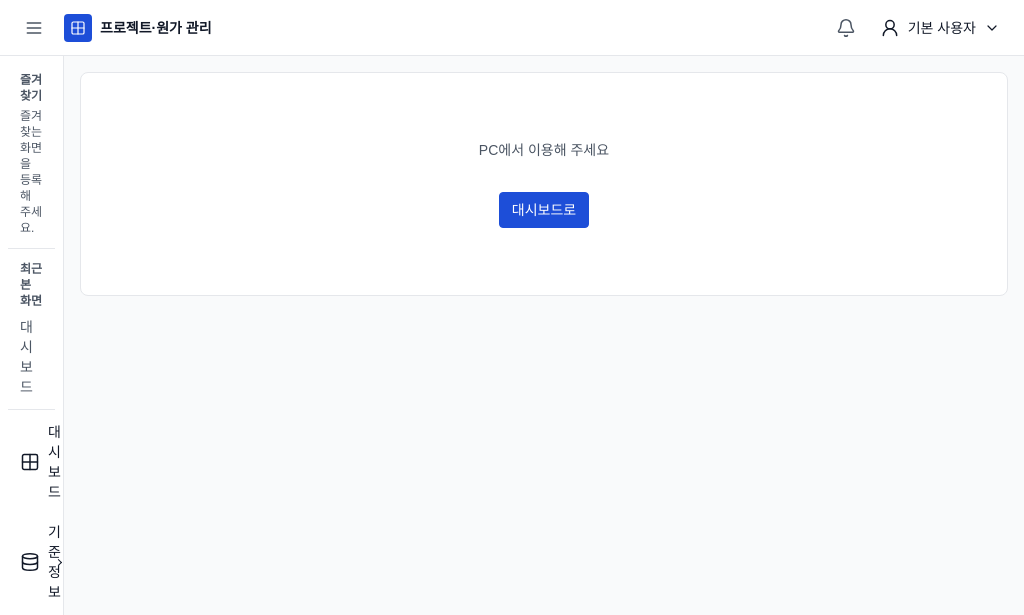
Scenario: 공유 업무 자리 › 휴대폰 UI-10 직접 접근은 기기 안내와 대시보드로만 제공한다
Expected: the text "PC에서 이용해 주세요" is shown, [479,140,609,160]
Click the button "대시보드로": (544, 210) [499,192,589,228]
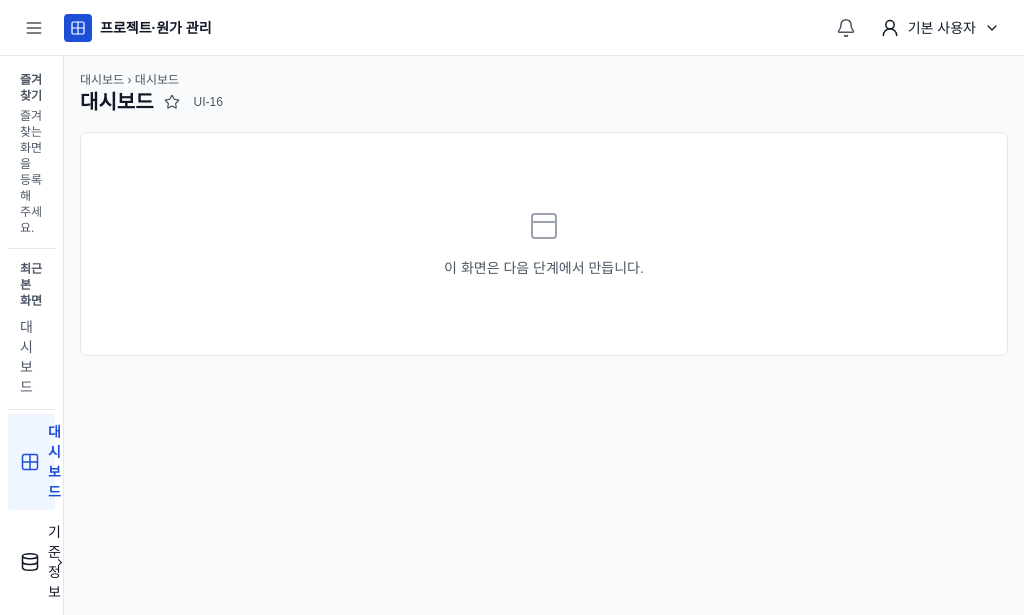
Result: the heading "대시보드" is shown at [80,88,154,116]
